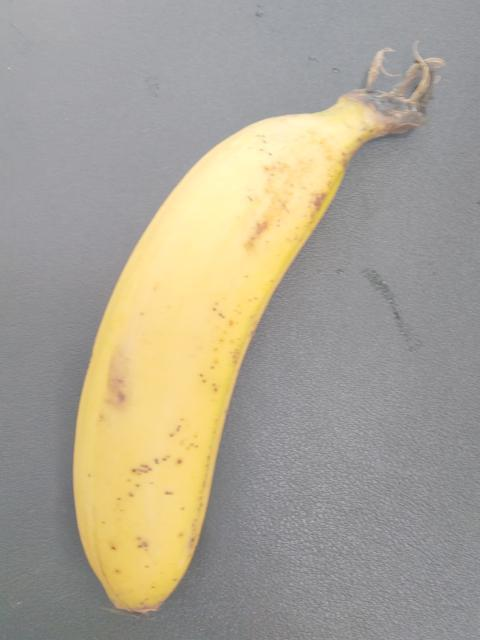ripe: (55, 103, 365, 639)
